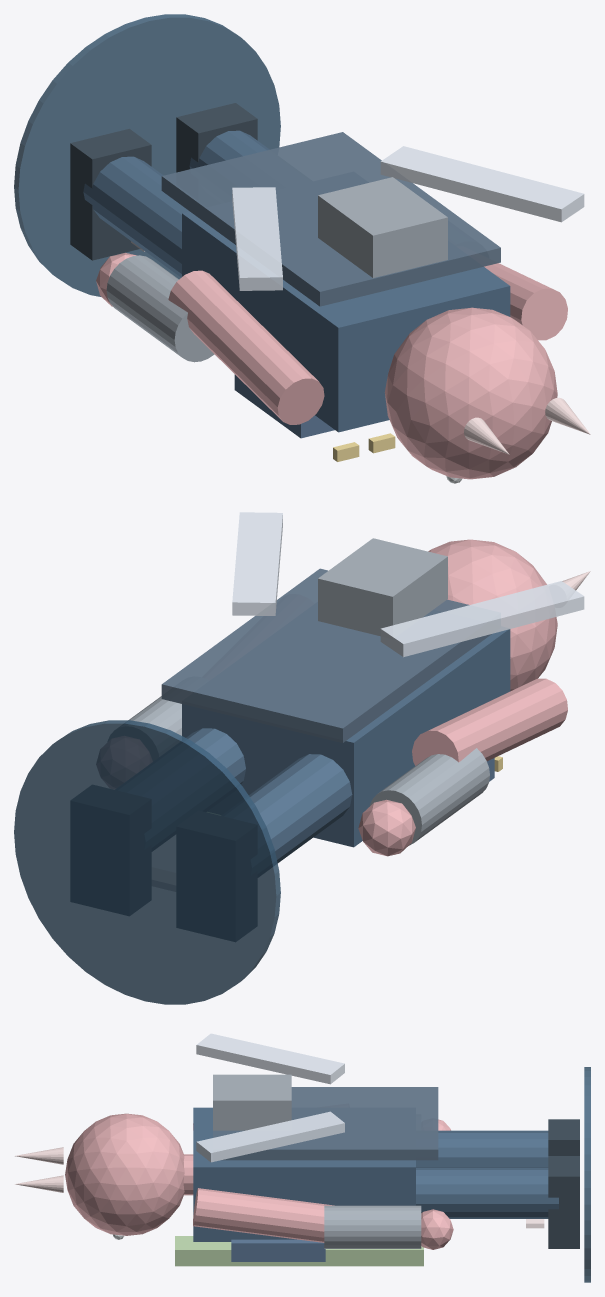
File: SW_NPC_031_fael_brightmast.glb
The picture shows the model from 3 angles, top to bottom: view 1: azimuth 30°, elevation 25°; view 2: azimuth 150°, elevation 25°; view 3: azimuth 270°, elevation 25°; orthographic projection. The views are drawn at different scales.
Parts seen in each view (by area): view 1: round_base_plate, head, torso_uniform, storm_cloak, left_upper_arm, wingpack_core, left_leg, right_wing_rig, left_forearm_gauntlet, left_boot, left_wing_rig, right_upper_arm (+6 smaller); view 2: round_base_plate, storm_cloak, torso_uniform, wingpack_core, head, left_upper_arm, left_wing_rig, left_leg, left_forearm_gauntlet, right_wing_rig, left_hand, right_leg (+1 smaller); view 3: head, torso_uniform, storm_cloak, right_leg, right_upper_arm, left_leg, right_forearm_gauntlet, wingpack_core, rank_sash, right_wing_rig, left_wing_rig, right_boot (+7 smaller).
Part boxes in pixels (x1,y1,x2,y2): round_base_plate: [14, 14, 280, 296]; head: [384, 307, 557, 479]; torso_uniform: [182, 211, 510, 432]; storm_cloak: [161, 132, 500, 306]; left_upper_arm: [168, 270, 324, 424]; wingpack_core: [318, 177, 447, 277]; left_leg: [83, 156, 189, 277]; right_wing_rig: [380, 146, 584, 222]; left_forearm_gauntlet: [106, 255, 214, 362]; left_boot: [70, 128, 151, 260]; left_wing_rig: [232, 187, 282, 290]; right_upper_arm: [484, 263, 567, 340]; round_base_plate: [14, 720, 280, 1004]; storm_cloak: [161, 568, 491, 742]; torso_uniform: [182, 629, 510, 847]; wingpack_core: [318, 538, 447, 636]; head: [428, 539, 557, 691]; left_upper_arm: [412, 678, 567, 765]; left_wing_rig: [380, 581, 584, 657]; left_leg: [249, 754, 352, 863]; left_forearm_gauntlet: [369, 748, 489, 845]; right_wing_rig: [232, 512, 282, 615]; left_hand: [358, 799, 415, 856]; right_leg: [186, 728, 245, 784]; head: [65, 1113, 184, 1235]; torso_uniform: [193, 1107, 415, 1241]; storm_cloak: [213, 1087, 438, 1160]; right_leg: [416, 1167, 558, 1218]; right_upper_arm: [193, 1188, 334, 1242]; left_leg: [416, 1130, 548, 1167]; right_forearm_gauntlet: [324, 1205, 421, 1248]; wingpack_core: [213, 1074, 291, 1130]; rank_sash: [175, 1236, 423, 1266]; right_wing_rig: [196, 1111, 344, 1162]; left_wing_rig: [196, 1033, 344, 1084]; right_boot: [548, 1156, 579, 1248].
Size of the model in its own units: 1.08 by 0.8232 by 2.2.
